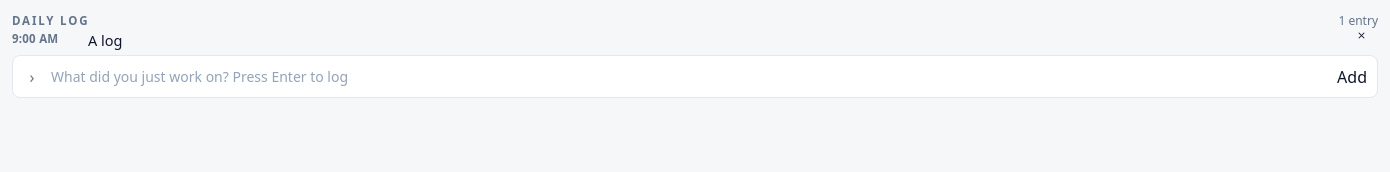
Test: journal sections against real HTTP errors (#232) › edit failures (HTTP 500): typed text is kept or the original restored › log edit: the saved entry text is shown again after the failed update
Double-click the button "A log" at (105, 40), box [88, 30, 122, 50]
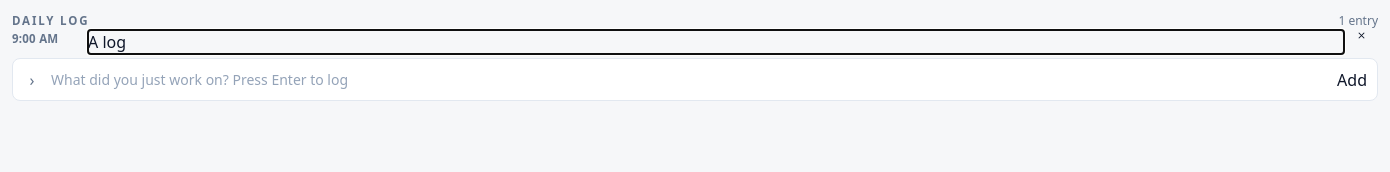
Replace the text in the field named "Edit log entry" with "An edited log". click: (716, 42)
box: [88, 30, 1344, 54]
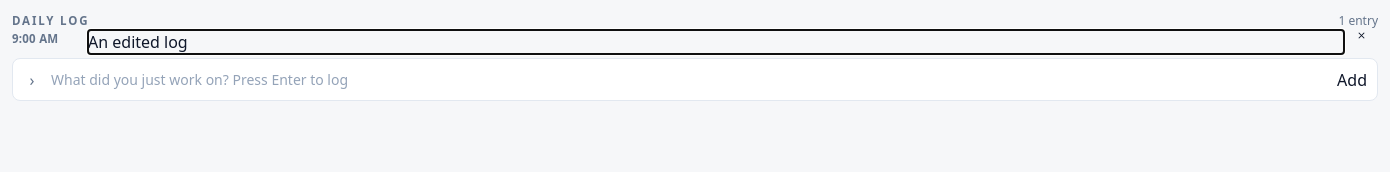
Press Enter in the field named "Edit log entry", box [88, 30, 1344, 54]
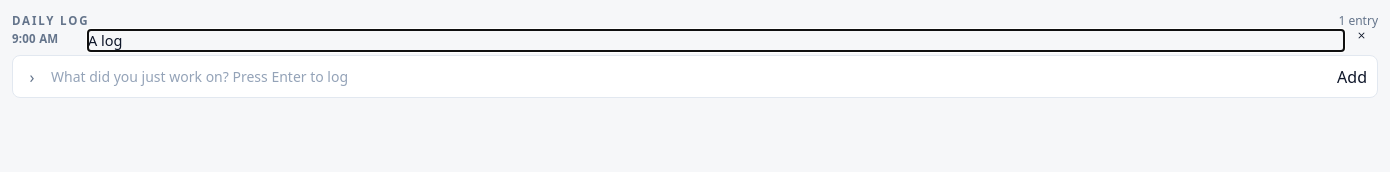
Check: the button "A log" is shown, box [88, 30, 122, 50]
